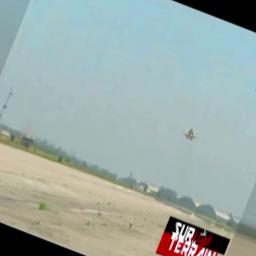Airplane: (182, 127, 199, 143)
